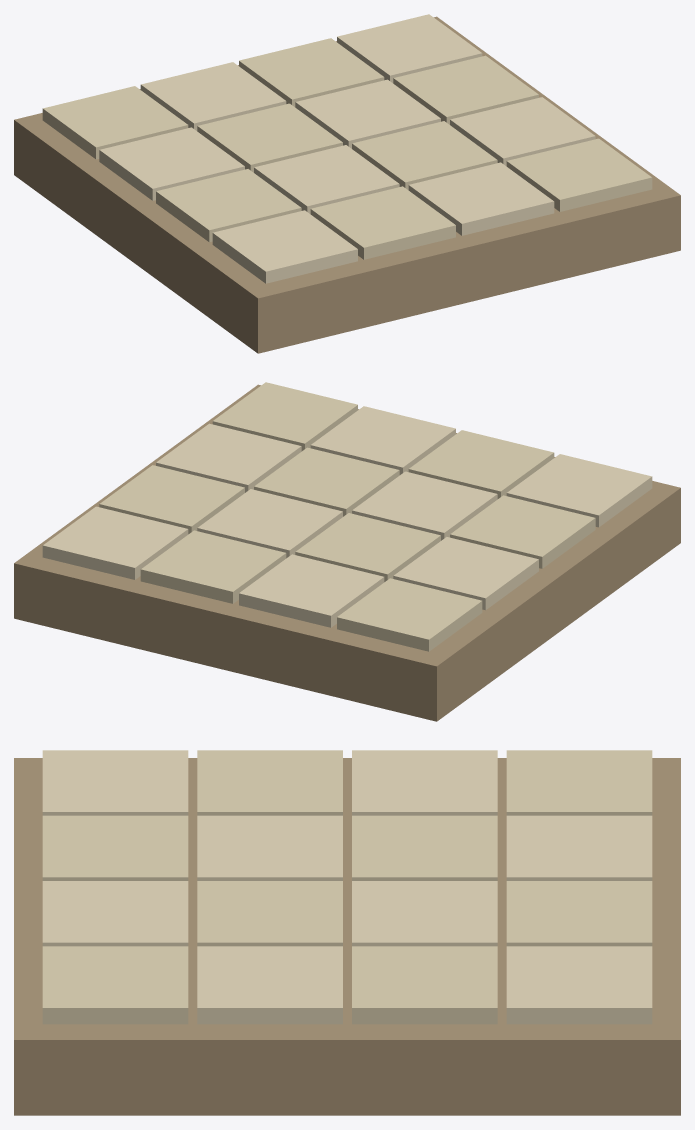
The model's file is city-module-platform-lod0.glb.
3 views of the same model, one above another, from view 1: azimuth 30°, elevation 25°; view 2: azimuth 150°, elevation 25°; view 3: azimuth 270°, elevation 25° (orthographic). The views are drawn at different scales.
Visible parts, largest first — view 1: module_platform_base, module_platform_tile_1_1, module_platform_tile_1_4, module_platform_tile_1_3, module_platform_tile_1_2, module_platform_tile_4_1, module_platform_tile_2_1, module_platform_tile_3_1, module_platform_tile_4_2, module_platform_tile_2_3, module_platform_tile_2_4, module_platform_tile_2_2 (+5 smaller); view 2: module_platform_base, module_platform_tile_4_1, module_platform_tile_4_4, module_platform_tile_4_3, module_platform_tile_4_2, module_platform_tile_1_1, module_platform_tile_2_1, module_platform_tile_3_1, module_platform_tile_1_2, module_platform_tile_3_3, module_platform_tile_3_4, module_platform_tile_1_4 (+5 smaller); view 3: module_platform_base, module_platform_tile_1_4, module_platform_tile_4_4, module_platform_tile_2_4, module_platform_tile_3_4, module_platform_tile_1_1, module_platform_tile_4_1, module_platform_tile_1_2, module_platform_tile_1_3, module_platform_tile_4_2, module_platform_tile_4_3, module_platform_tile_2_1 (+5 smaller).
Part boxes in pixels (box(x1,y1,x2,y2)): module_platform_base: box(14, 16, 680, 353); module_platform_tile_1_1: box(212, 210, 357, 283); module_platform_tile_1_4: box(506, 138, 652, 211); module_platform_tile_1_3: box(408, 162, 554, 235); module_platform_tile_1_2: box(310, 186, 455, 259); module_platform_tile_4_1: box(42, 86, 188, 159); module_platform_tile_2_1: box(156, 169, 301, 242); module_platform_tile_3_1: box(99, 127, 244, 200); module_platform_tile_4_2: box(140, 62, 286, 130); module_platform_tile_2_3: box(352, 121, 497, 190); module_platform_tile_2_4: box(450, 97, 595, 166); module_platform_tile_2_2: box(254, 145, 399, 213); module_platform_base: box(14, 384, 680, 721); module_platform_tile_4_1: box(337, 578, 482, 651); module_platform_tile_4_4: box(42, 506, 188, 579); module_platform_tile_4_3: box(140, 530, 286, 603); module_platform_tile_4_2: box(239, 554, 384, 627); module_platform_tile_1_1: box(506, 454, 652, 527); module_platform_tile_2_1: box(450, 495, 595, 568); module_platform_tile_3_1: box(393, 537, 538, 610); module_platform_tile_1_2: box(408, 430, 554, 498); module_platform_tile_3_3: box(197, 489, 342, 558); module_platform_tile_3_4: box(99, 465, 244, 534); module_platform_tile_1_4: box(212, 382, 357, 451); module_platform_base: box(14, 758, 680, 1115); module_platform_tile_1_4: box(42, 946, 188, 1024); module_platform_tile_4_4: box(506, 946, 652, 1024); module_platform_tile_2_4: box(197, 946, 342, 1024); module_platform_tile_3_4: box(352, 946, 497, 1024); module_platform_tile_1_1: box(42, 750, 188, 815); module_platform_tile_4_1: box(506, 750, 652, 815); module_platform_tile_1_2: box(42, 815, 188, 880); module_platform_tile_1_3: box(42, 881, 188, 946); module_platform_tile_4_2: box(506, 815, 652, 880); module_platform_tile_4_3: box(506, 881, 652, 946); module_platform_tile_2_1: box(197, 750, 342, 815).
Bounding box in the file's own units: 0.44 × 0.0695 × 0.44.
